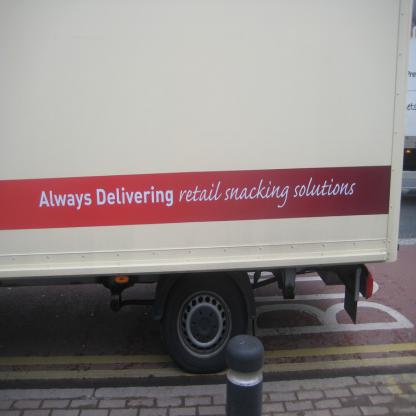Truck: (0, 0, 413, 375)
